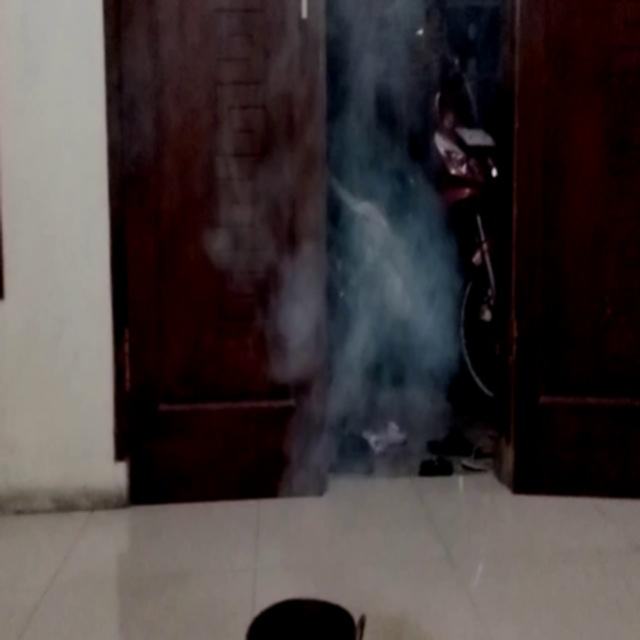smoke: (280, 0, 453, 522)
